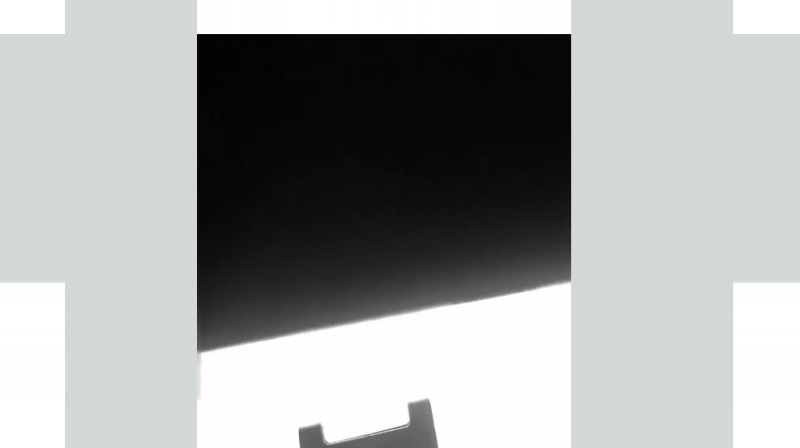O002: (295, 397, 449, 447)
